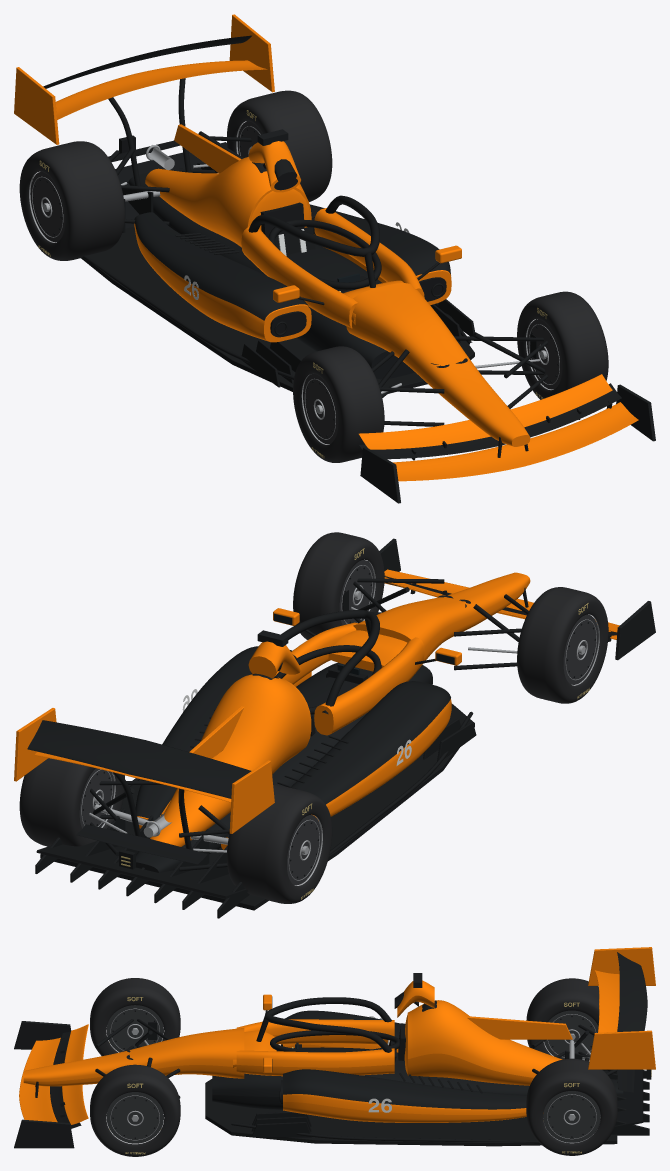
The model's file is reference-26-performance.glb.
3 views of the same model, one above another, from view 1: azimuth 30°, elevation 25°; view 2: azimuth 150°, elevation 25°; view 3: azimuth 270°, elevation 25° (orthographic). The views are drawn at different scales.
Visible parts, largest first — view 1: Nose_body, Floor_carbon, RearLeftWheel_tire, Bodywork_body, Sidepods_secondary, RearWing_body, FrontLeftWheel_tire, Bodywork_secondary, Cockpit_body, FrontWing_body, FrontRightWheel_tire, RearRightWheel_tire (+18 smaller); view 2: Sidepods_secondary, Bodywork_body, RearFlap_secondary, RearLeftWheel_tire, FrontLeftWheel_tire, Floor_carbon, Cockpit_body, Diffuser_carbon, Nose_body, RearRightWheel_tire, FrontRightWheel_tire, Bodywork_secondary (+15 smaller); view 3: Bodywork_body, Floor_carbon, Nose_body, Sidepods_secondary, Cockpit_body, RearWing_body, RearRightWheel_tire, Sidepods_body, FrontRightWheel_tire, Bodywork_secondary, FrontLeftWheel_tire, FrontWing_secondary (+18 smaller).
Part boxes in pixels (x1,y1,x2,y2): Nose_body: (346,283,530,446); Floor_carbon: (81,226,474,393); RearLeftWheel_tire: (19,141,124,260); Bodywork_body: (145,124,311,247); Sidepods_secondary: (134,204,450,320); RearWing_body: (14,14,274,144); FrontLeftWheel_tire: (293,346,384,462); Bodywork_secondary: (128,162,414,379); Cockpit_body: (241,208,424,328); FrontWing_body: (393,402,638,481); FrontRightWheel_tire: (517,291,608,399); RearRightWheel_tire: (227,90,332,201); Sidepods_secondary: (135,646,450,837); Bodywork_body: (150,674,311,846); RearFlap_secondary: (27,720,251,798); RearLeftWheel_tire: (227,784,332,903); FrontLeftWheel_tire: (517,587,608,703); Floor_carbon: (40,703,476,910); Cockpit_body: (275,622,424,735); Diffuser_carbon: (35,808,249,918); Nose_body: (353,572,530,673); RearRightWheel_tire: (19,758,124,846); FrontRightWheel_tire: (293,532,384,639); Bodywork_secondary: (136,662,432,872); Bodywork_body: (404,1000,572,1085); Floor_carbon: (205,1079,617,1146); Nose_body: (23,1028,244,1086); Sidepods_secondary: (283,1010,526,1109); Cockpit_body: (233,1019,394,1076); RearWing_body: (588,947,655,1069); RearRightWheel_tire: (526,1058,617,1155); Sidepods_body: (263,994,543,1122); FrontRightWheel_tire: (90,1064,180,1156); Bodywork_secondary: (212,1000,623,1109); FrontLeftWheel_tire: (90,978,180,1055); FrontWing_secondary: (14,1021,74,1148).
Bounding box in the file's own units: 1.9 × 1.12 × 5.
